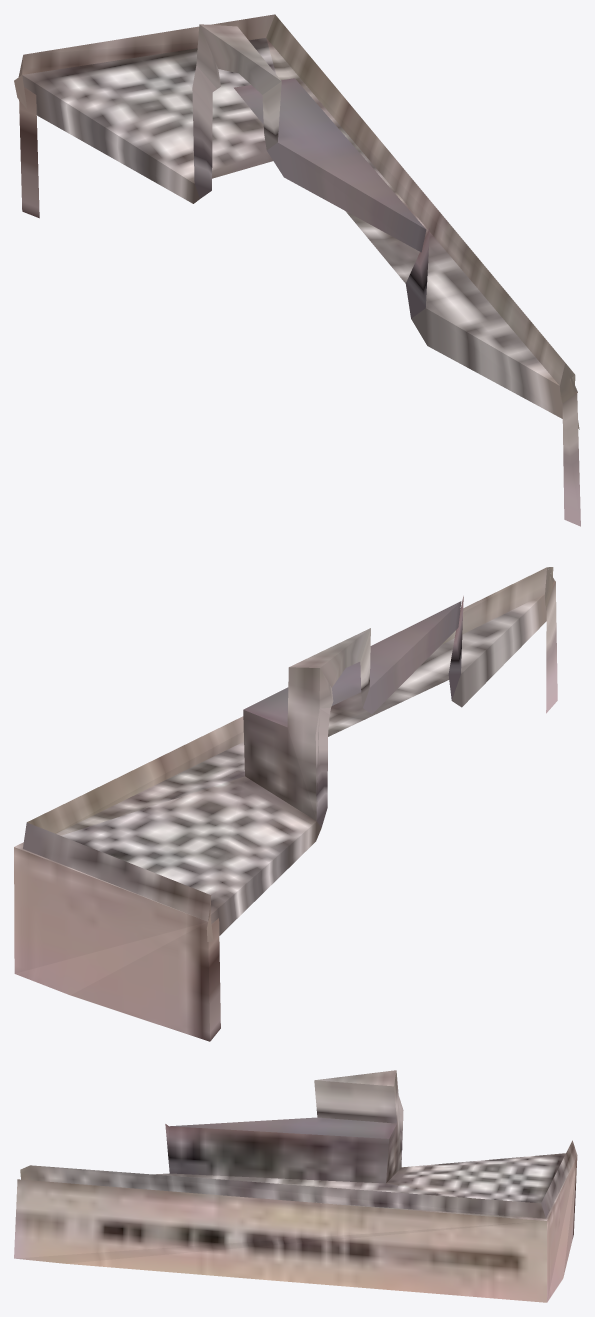
3 views of the same model, one above another, from view 1: azimuth 30°, elevation 25°; view 2: azimuth 150°, elevation 25°; view 3: azimuth 270°, elevation 25° (orthographic). The views are drawn at different scales.
Visible parts, largest first — view 1: Mesh_0; view 2: Mesh_0; view 3: Mesh_0.
Boxes of the visible parts, bbox=[...] form: Mesh_0: bbox=[14, 14, 580, 526]; Mesh_0: bbox=[14, 567, 557, 1041]; Mesh_0: bbox=[14, 1070, 577, 1302].
Size of the model in its own units: 8.49 by 9.79 by 28.94.
Materials: 1 (1 with a texture image).
